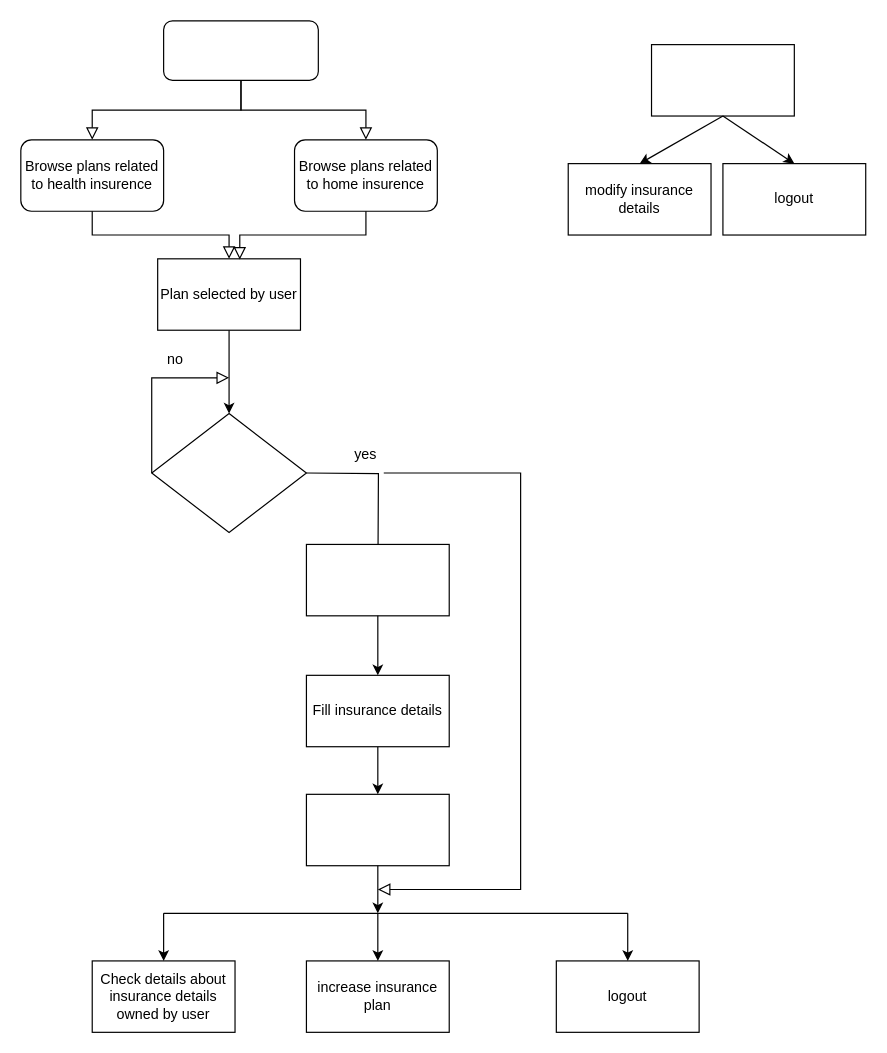
The diagram is 887 pixels wide and 1053 high, and some of its shapes have lost their labels. Each missing label, with the centre of its shape:
"admin login" belongs at [722,79].
"home page where user can browse plans" belongs at [240,50].
"is user logged in?" belongs at [228,472].
"Login and Sign up" belongs at [377,579].
"Pay initial insurance amount" belongs at [377,829].
